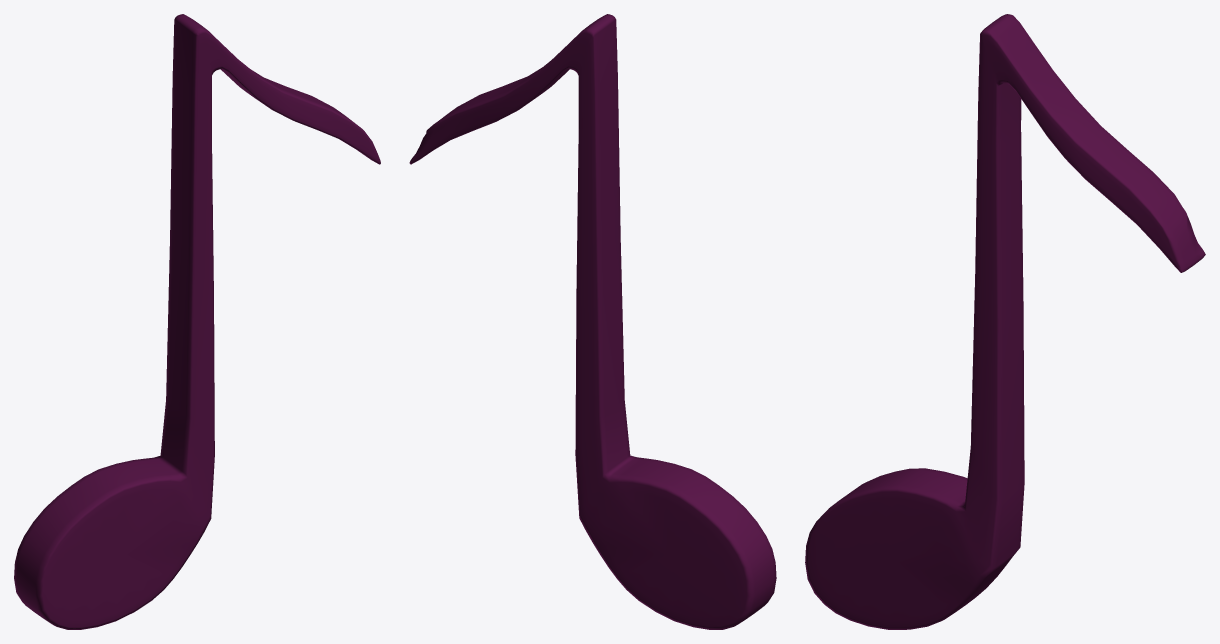
File: MusicNote2.fbx
The picture shows the model from 3 angles, left to right: view 1: azimuth 30°, elevation 25°; view 2: azimuth 150°, elevation 25°; view 3: azimuth 330°, elevation 25°; orthographic projection. The views are drawn at different scales.
Parts seen in each view (by area): view 1: musical note 2; view 2: musical note 2; view 3: musical note 2.
Part boxes in pixels (left/top/right/bottom): musical note 2: left=14, top=14, right=380, bottom=629; musical note 2: left=409, top=14, right=776, bottom=629; musical note 2: left=805, top=14, right=1205, bottom=629.
Bounding box in the file's own units: 12.52 × 19.81 × 1.82.
